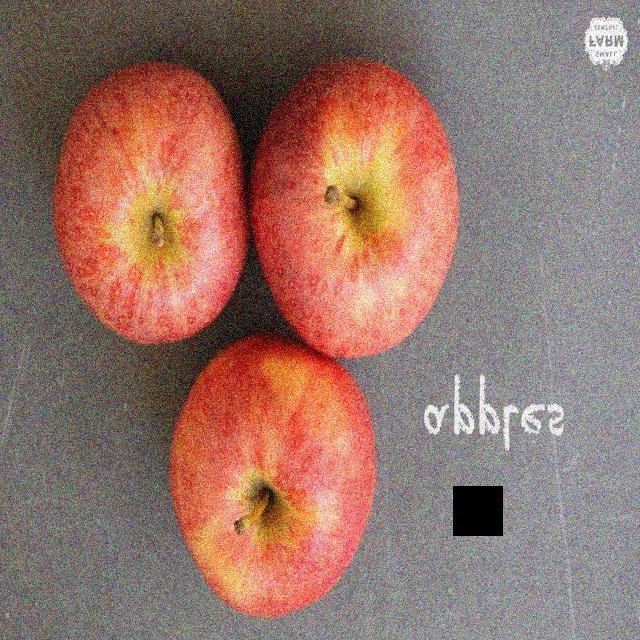red apple: (247, 53, 455, 365), (167, 336, 384, 619), (52, 58, 247, 341)
